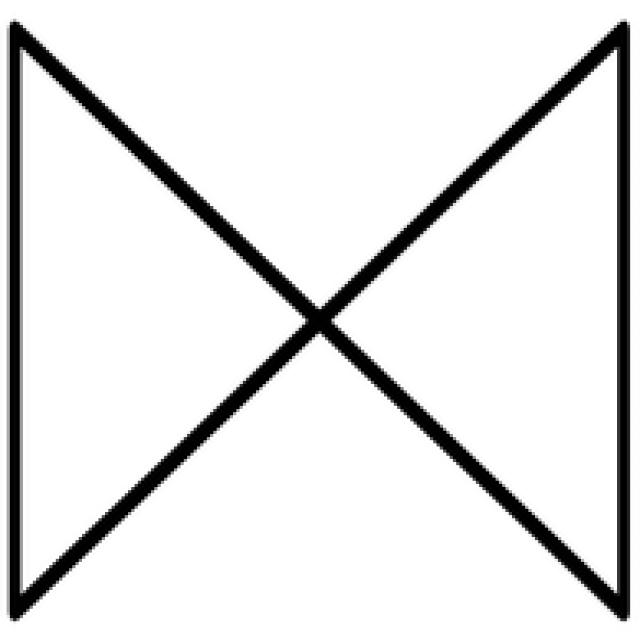Gate valve: (11, 24, 623, 620)
